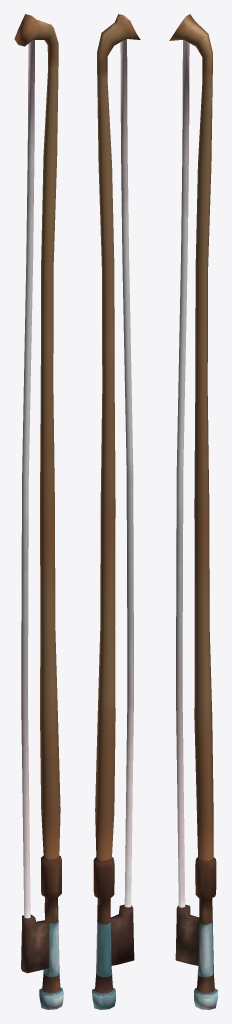
Rendered from arquito1.fbx.
The picture shows the model from 3 angles, left to right: view 1: azimuth 30°, elevation 25°; view 2: azimuth 210°, elevation 25°; view 3: azimuth 330°, elevation 25°; orthographic projection.
Visible parts, largest first — view 1: Cube; view 2: Cube; view 3: Cube.
Boxes of the visible parts, x1,y1,x2,y2 form: Cube: (14, 14, 63, 1009); Cube: (92, 14, 140, 1009); Cube: (169, 14, 217, 1009).
Bounding box in the file's own units: 3.42 × 73.91 × 1.7.
